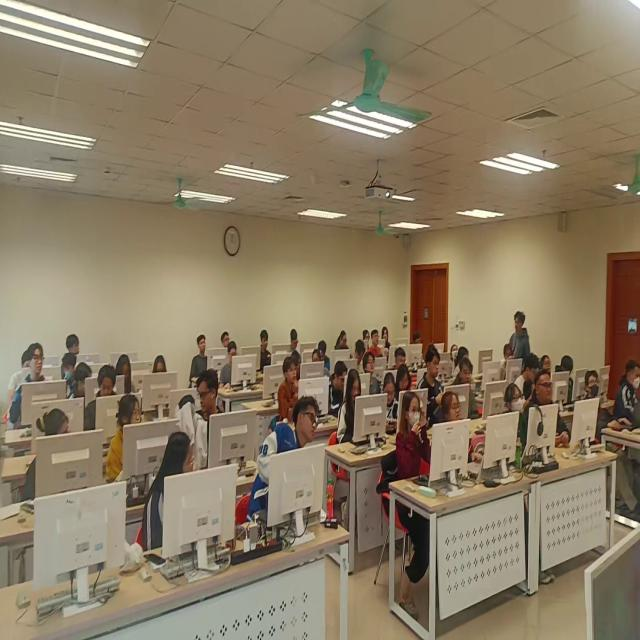raise_head: (17, 344, 59, 421), (397, 394, 429, 484), (532, 374, 567, 445), (440, 393, 471, 462), (584, 371, 612, 445), (502, 383, 532, 450), (279, 361, 309, 421), (422, 349, 448, 417), (193, 333, 219, 381), (454, 361, 481, 404), (255, 332, 275, 374), (364, 357, 383, 395), (370, 329, 385, 365), (217, 329, 234, 351)
stand: (265, 398, 325, 536), (508, 308, 532, 369)
using_computer: (39, 415, 93, 499), (339, 371, 374, 453), (90, 368, 127, 431), (149, 350, 180, 408), (221, 347, 257, 392), (560, 357, 585, 403), (328, 364, 349, 411), (334, 331, 356, 362), (311, 347, 330, 380), (396, 367, 416, 398), (288, 330, 307, 356)
using_phone: (384, 376, 406, 439)
